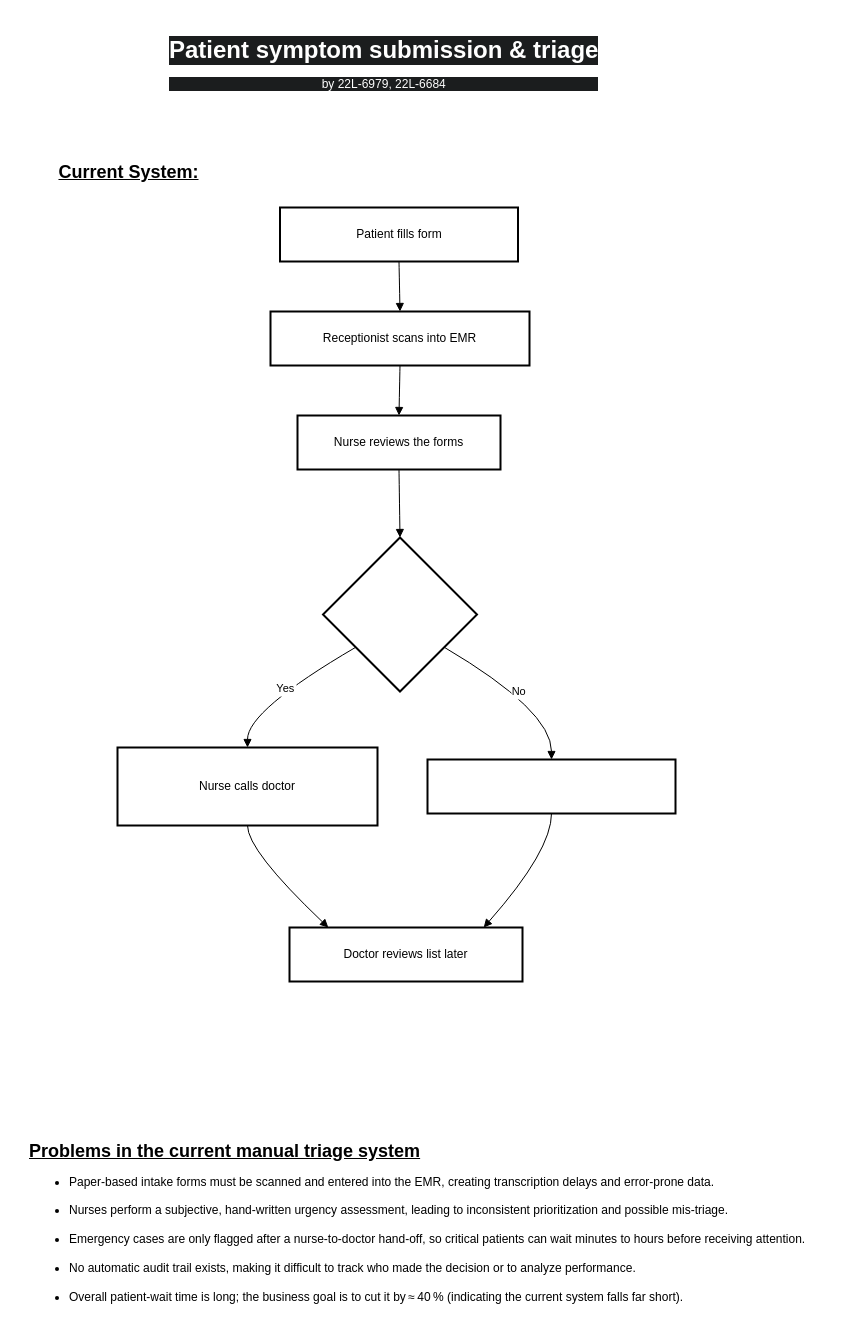
Image size: 854x1333. Some labels were removed from this diagram. Each missing label, with the centre of its shape:
Case placed in waiting list: the point at 551,786
Is Emergency?: the point at 400,614
